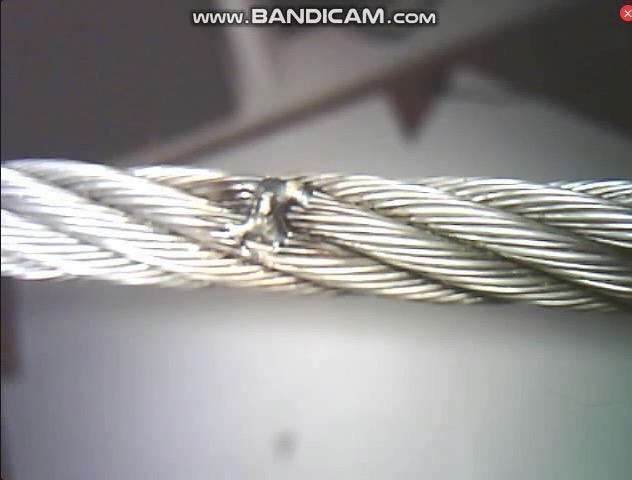thunderbolt: (223, 171, 322, 251)
